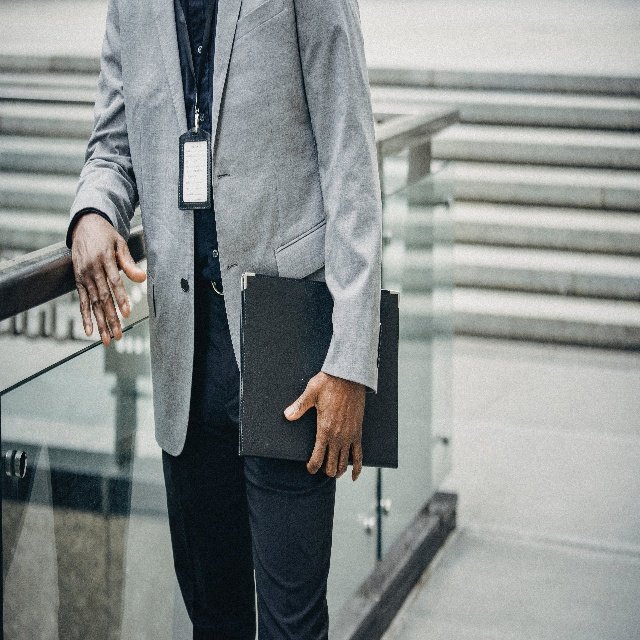Sin_guantes: (69, 212, 147, 347), (284, 368, 367, 480)
